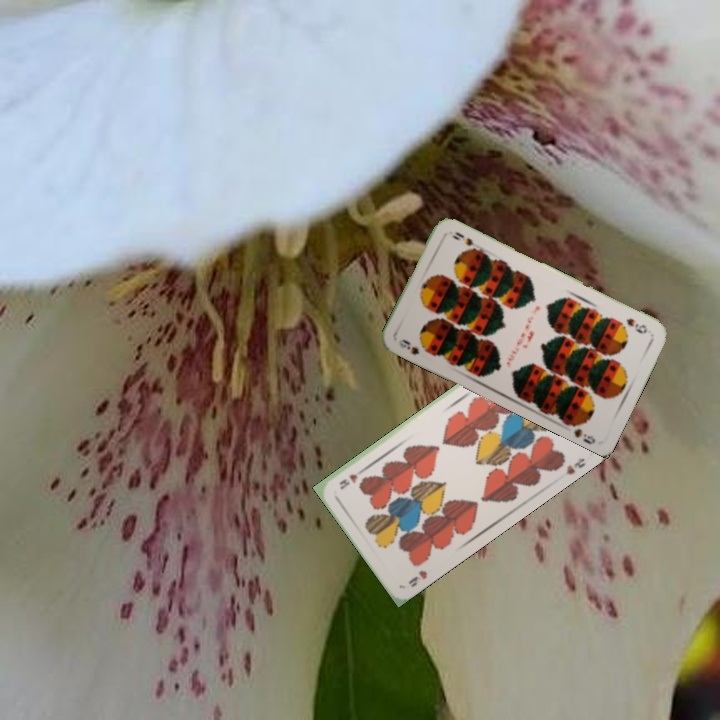H9: (404, 566, 430, 590)
S9: (395, 335, 433, 357), (622, 314, 650, 337)
